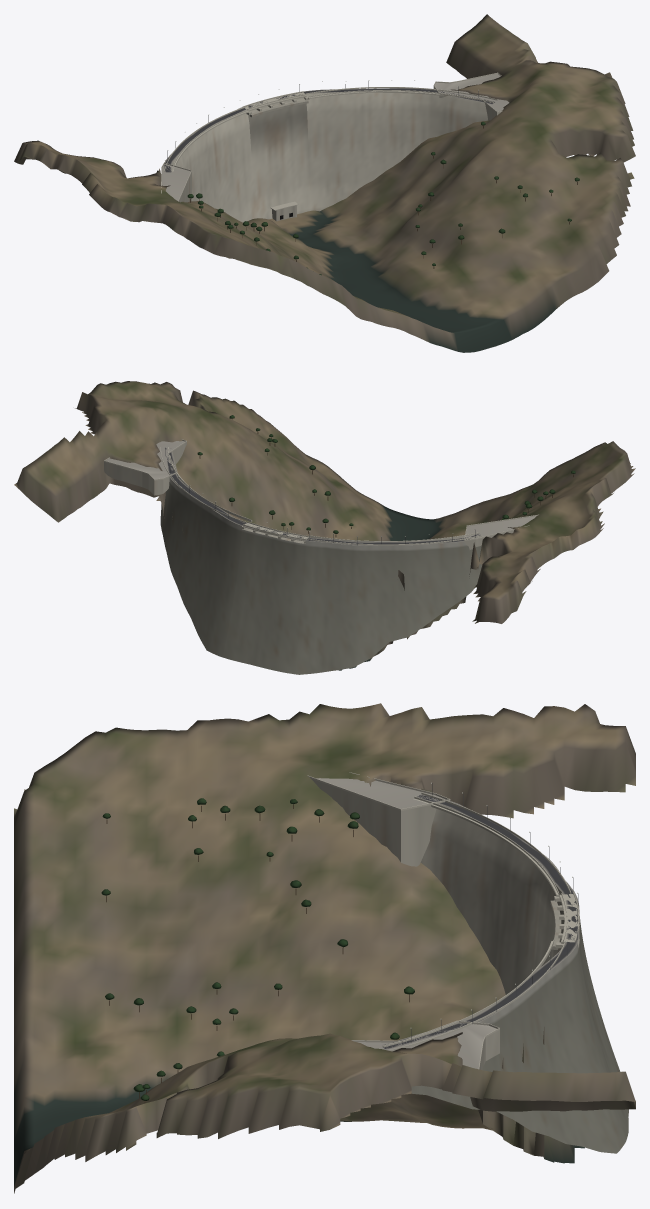
3 views of the same model, one above another, from view 1: azimuth 30°, elevation 25°; view 2: azimuth 150°, elevation 25°; view 3: azimuth 270°, elevation 25° (orthographic). The views are drawn at different scales.
Visible parts, largest first — view 1: roca, presa_de_el_atazar, pinos; view 2: roca, presa_de_el_atazar, pinos; view 3: roca, presa_de_el_atazar, pinos.
Boxes of the visible parts, x1,y1,x2,y2 form: roca: (14,14,635,352); presa_de_el_atazar: (161,72,509,222); pinos: (187,121,579,275); roca: (14,381,635,670); presa_de_el_atazar: (104,439,538,674); pinos: (197,415,575,536); roca: (14,703,635,1193); presa_de_el_atazar: (307,772,628,1153); pinos: (101,798,414,1103).
Size of the model in its own units: 570 by 166 by 366.
